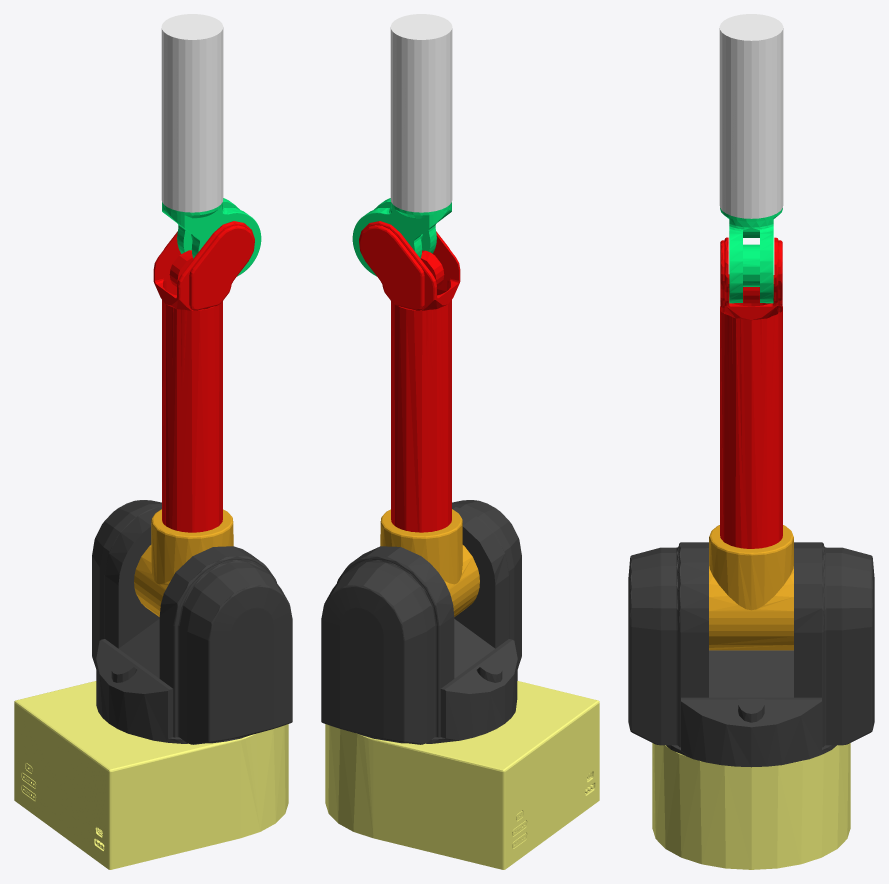
The model's file is barrett-wam4.dae.
3 views of the same model, side by side, from view 1: azimuth 30°, elevation 25°; view 2: azimuth 150°, elevation 25°; view 3: azimuth 270°, elevation 25° (orthographic). The views are drawn at different scales.
Visible parts, largest first — view 1: wam1, wam0, wam3, wam4 (×2), wam2; view 2: wam1, wam0, wam3, wam4 (×2), wam2; view 3: wam1, wam0, wam3, wam4 (×2), wam2.
Boxes of the visible parts, box(x1,y1,x2,y2) form: wam1: box(92, 500, 292, 744); wam0: box(14, 681, 288, 869); wam3: box(153, 221, 254, 532); wam4 (×2): box(161, 14, 261, 276); wam2: box(134, 509, 233, 616); wam1: box(321, 500, 521, 744); wam0: box(325, 681, 599, 869); wam3: box(359, 221, 460, 532); wam4 (×2): box(352, 14, 452, 276); wam2: box(380, 509, 479, 616); wam1: box(628, 542, 874, 767); wam0: box(652, 743, 850, 869); wam3: box(720, 237, 782, 548); wam4 (×2): box(719, 14, 783, 303); wam2: box(709, 525, 793, 650).
Size of the model in its own units: 0.36 by 0.3476 by 1.25.
